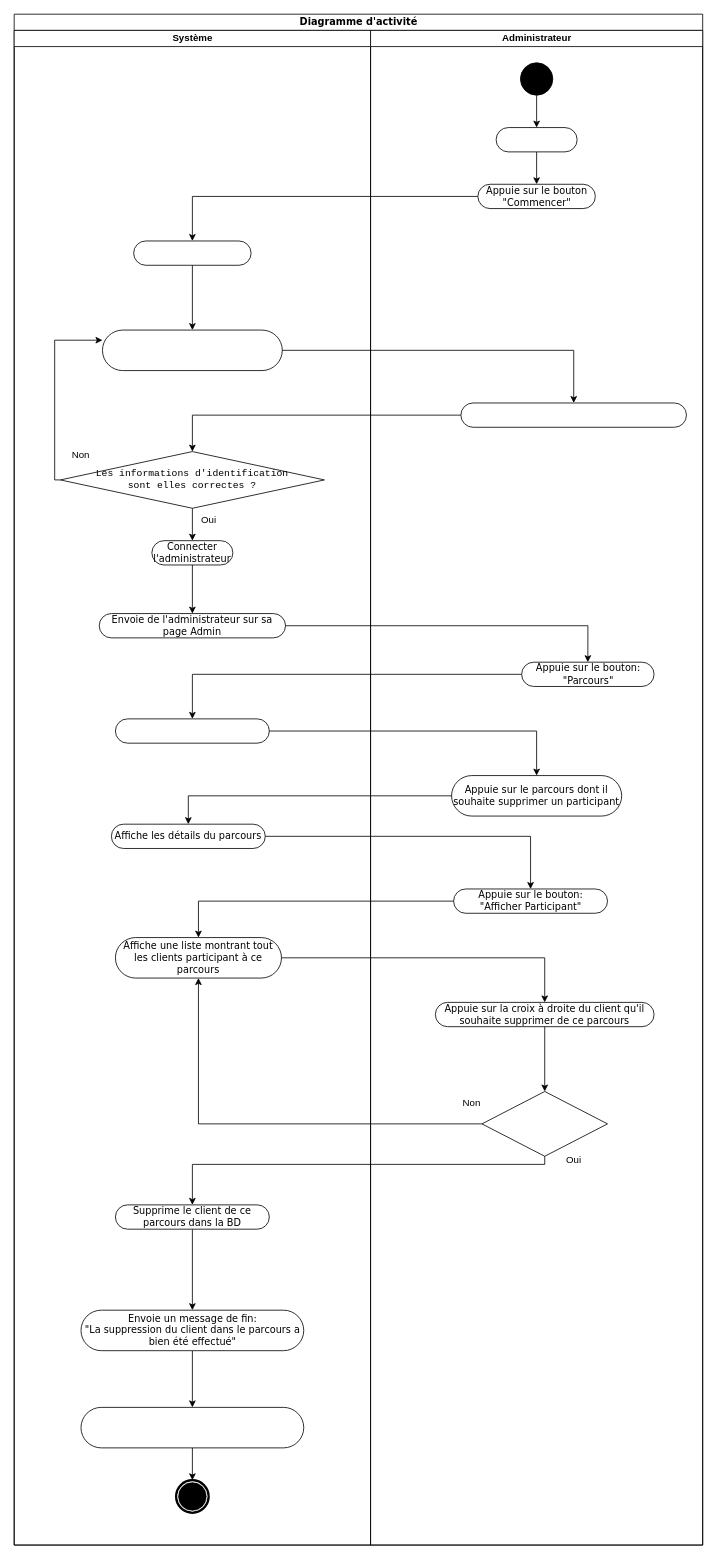
This 717x1559 diagram has some shape labels left out. Each missing label, with the centre of its shape:
Demander un nom d'utilisateur et un mot de passe: point 192,350
Envoie sur la page du Login: point 192,252
Envoie sur la page listant tout les parcours: point 192,730
Envoie un message au client lui disant le parcours auquel il a été supprimé: point 192,1427
Est-il sûr de vouloir supprimer ce client de ce parcours ?: point 544,1123
Fournir un nom d'utilisateur admin et un mot de passe admin: point 573,414
Ouvre l'application: point 536,139
